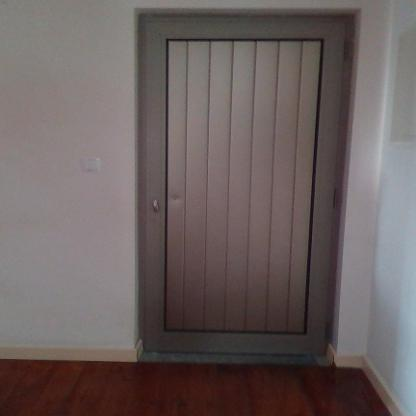door: (145, 22, 327, 353)
hinged: (342, 37, 352, 61), (324, 320, 333, 340), (332, 188, 340, 209)
knob: (150, 198, 162, 214)
